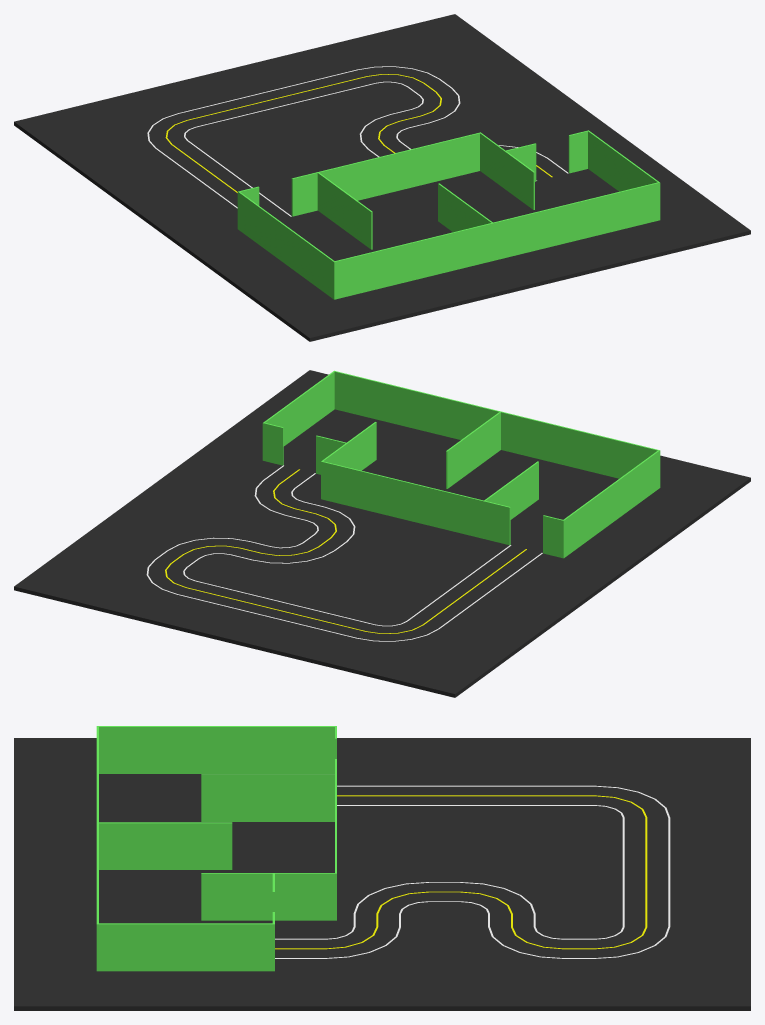
Rendered from field.dae.
3 renders of one model, top to bottom at view 1: azimuth 30°, elevation 25°; view 2: azimuth 150°, elevation 25°; view 3: azimuth 270°, elevation 25°, orthographic. The views are drawn at different scales.
Parts seen in each view (by area): view 1: __V2 (×5); view 2: __V2 (×5); view 3: __V2 (×5).
Part boxes in pixels (box(x1,y1,x2,y2)): __V2 (×5): box(14, 14, 750, 341); __V2 (×5): box(14, 370, 750, 697); __V2 (×5): box(14, 726, 750, 1010).
Bounding box in the file's own units: 6130 × 7120 × 550.
